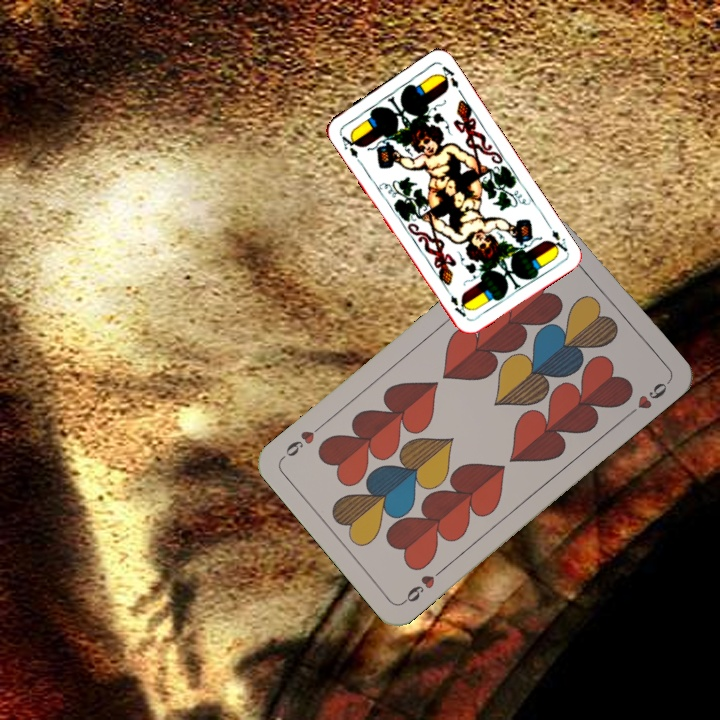EA: (543, 219, 571, 256), (336, 129, 362, 160)
H9: (399, 563, 448, 606)
